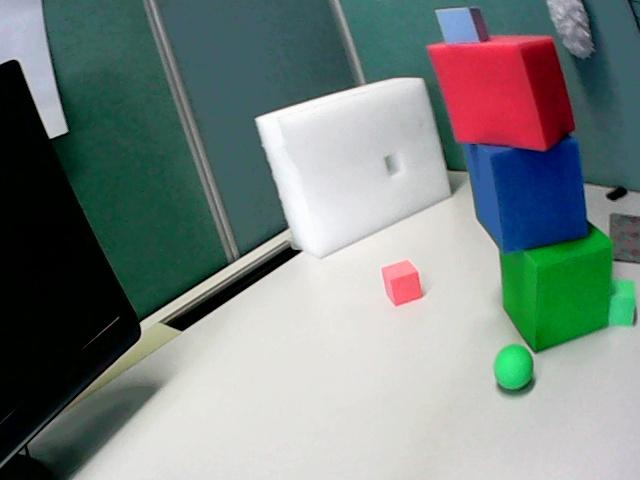blue_block: (463, 137, 587, 252), (435, 7, 488, 43)
red_block: (427, 36, 574, 150), (382, 260, 421, 305)
